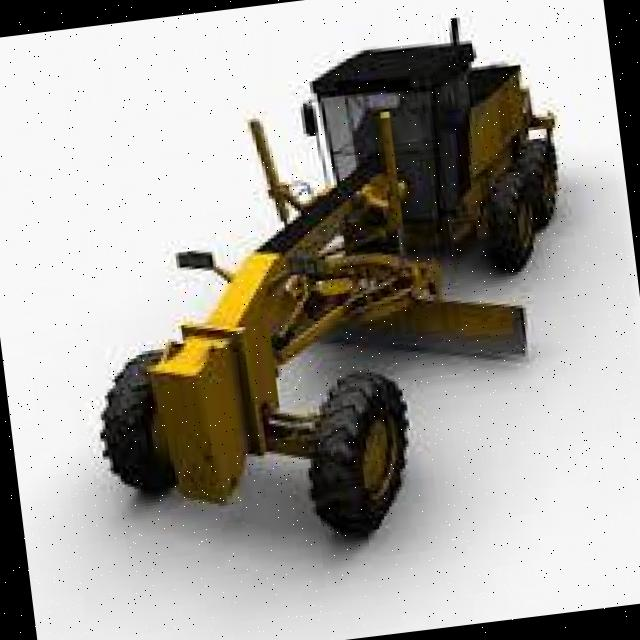Grader: (64, 5, 640, 581)
